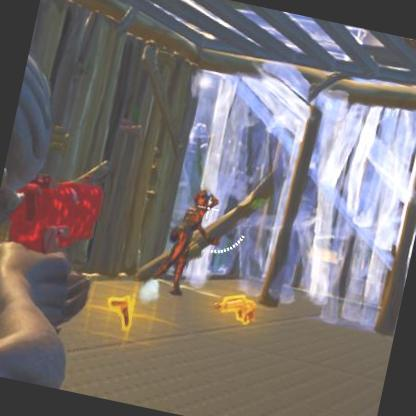person: (160, 176, 212, 290)
